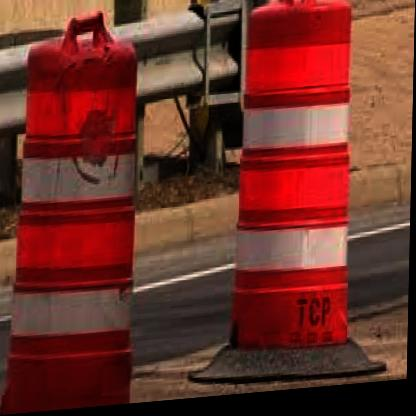obstacle: (12, 27, 145, 415), (237, 0, 359, 364)
